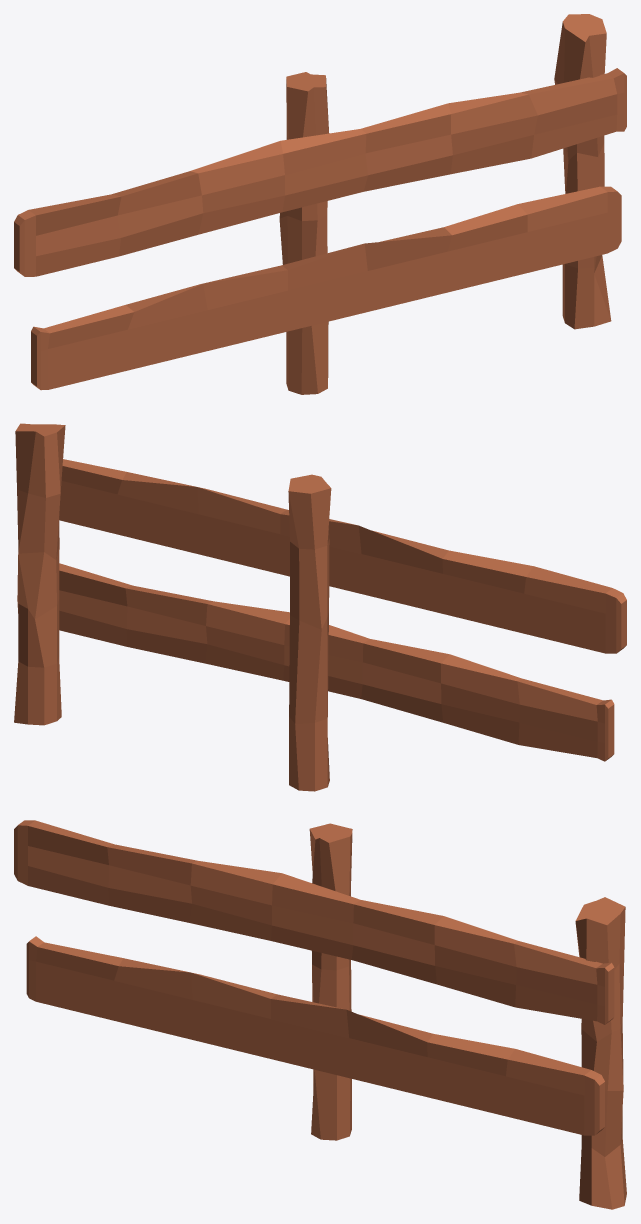
Rendered from Cerca Conector 5.fbx.
3 views of the same model, one above another, from view 1: azimuth 30°, elevation 25°; view 2: azimuth 150°, elevation 25°; view 3: azimuth 330°, elevation 25° (orthographic). The views are drawn at different scales.
Parts seen in each view (by area): view 1: Cerca Conector; view 2: Cerca Conector; view 3: Cerca Conector.
Part boxes in pixels (box(x1,y1,x2,y2)): Cerca Conector: box(14, 14, 626, 394); Cerca Conector: box(14, 423, 626, 791); Cerca Conector: box(14, 820, 626, 1209).
Bounding box in the file's own units: 990 × 481 × 110.
